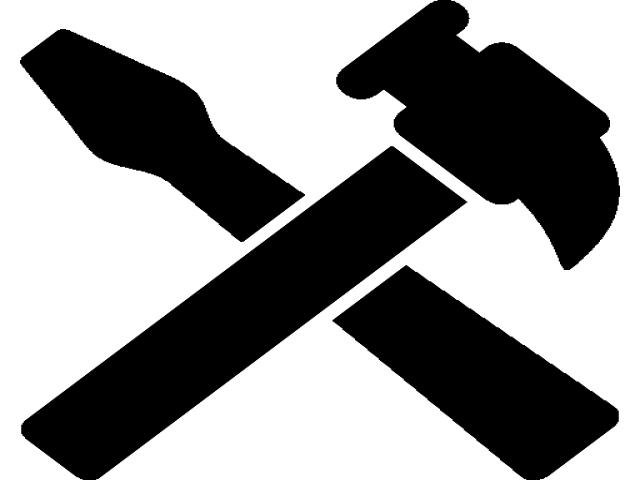Hammer: (19, 0, 619, 479)
Screwdriver: (20, 28, 623, 480)
